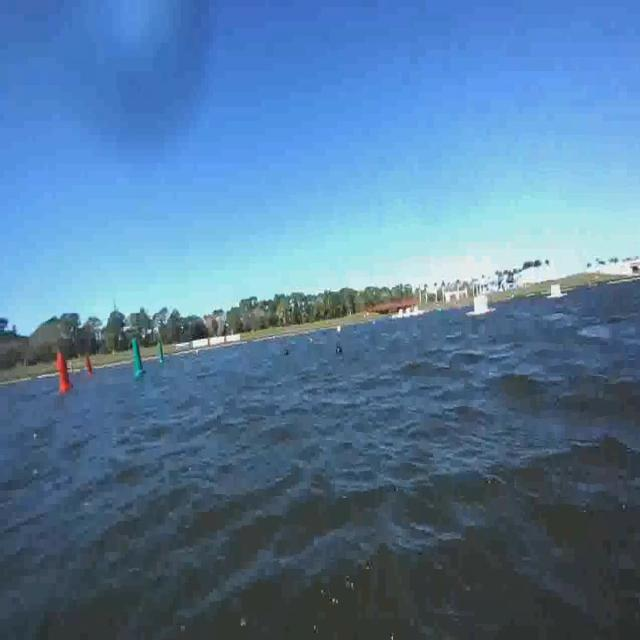black-buoy: (337, 347, 342, 355), (284, 350, 290, 356)
green-column-buoy: (132, 338, 148, 377), (158, 342, 165, 363)
red-column-buoy: (56, 352, 73, 392), (84, 352, 94, 375)
